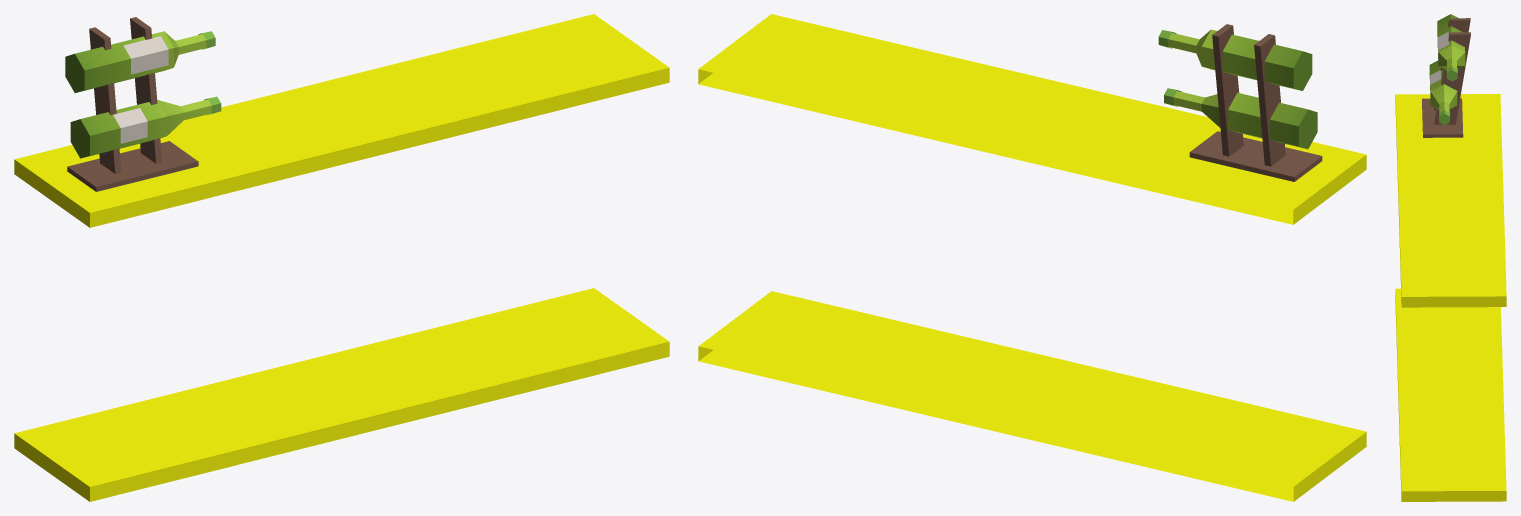
Rendered from BookShelf1.fbx.
3 renders of one model, left to right at view 1: azimuth 30°, elevation 25°; view 2: azimuth 150°, elevation 25°; view 3: azimuth 270°, elevation 25°, orthographic. The views are drawn at different scales.
Visible parts, largest first — view 1: BookShelf1; view 2: BookShelf1; view 3: BookShelf1.
Part boxes in pixels (x1,y1,x2,y2): BookShelf1: (14,14,669,501); BookShelf1: (698,14,1366,501); BookShelf1: (1395,14,1506,501).
Bounding box in the file's own units: 62.97 × 43.36 × 14.59.
